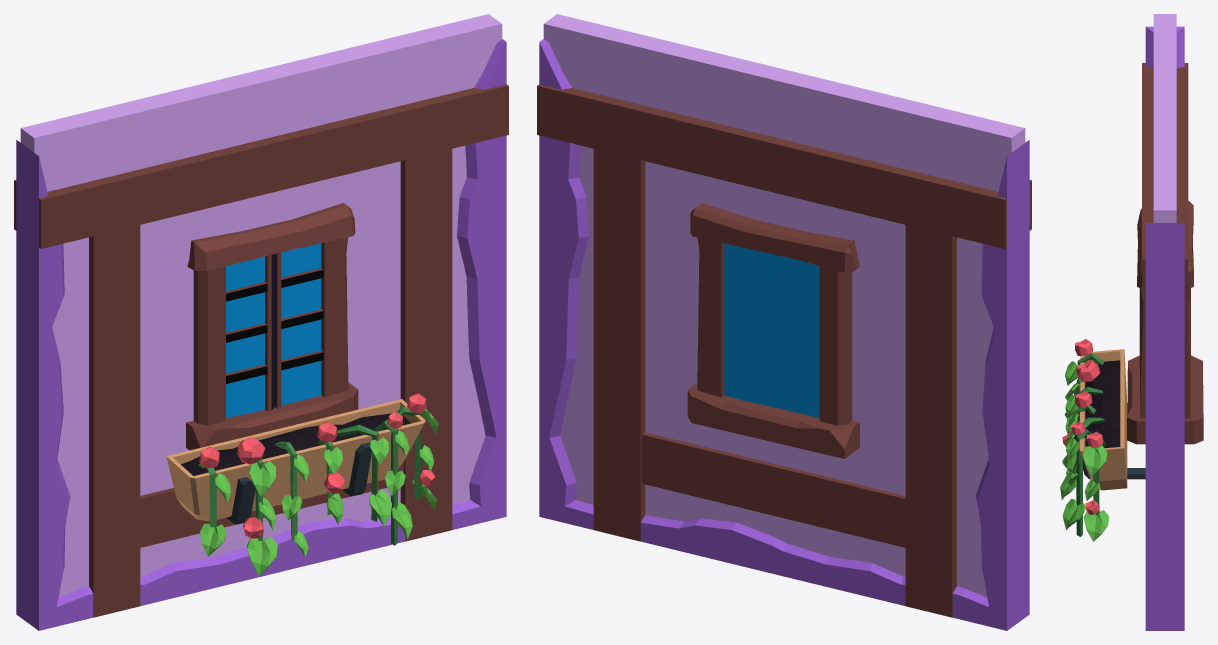
Rendered from Modular Wall 03 MK2 W4.fbx.
3 views of the same model, side by side, from view 1: azimuth 30°, elevation 25°; view 2: azimuth 150°, elevation 25°; view 3: azimuth 270°, elevation 25° (orthographic). The views are drawn at different scales.
Visible parts, largest first — view 1: Modular Wall 03 MK2 W4; view 2: Modular Wall 03 MK2 W4; view 3: Modular Wall 03 MK2 W4.
Part boxes in pixels (left/top/right/bottom): Modular Wall 03 MK2 W4: left=14, top=14, right=508, bottom=630; Modular Wall 03 MK2 W4: left=537, top=14, right=1031, bottom=630; Modular Wall 03 MK2 W4: left=1060, top=14, right=1203, bottom=630.
Size of the model in its own units: 400 by 400 by 124.
